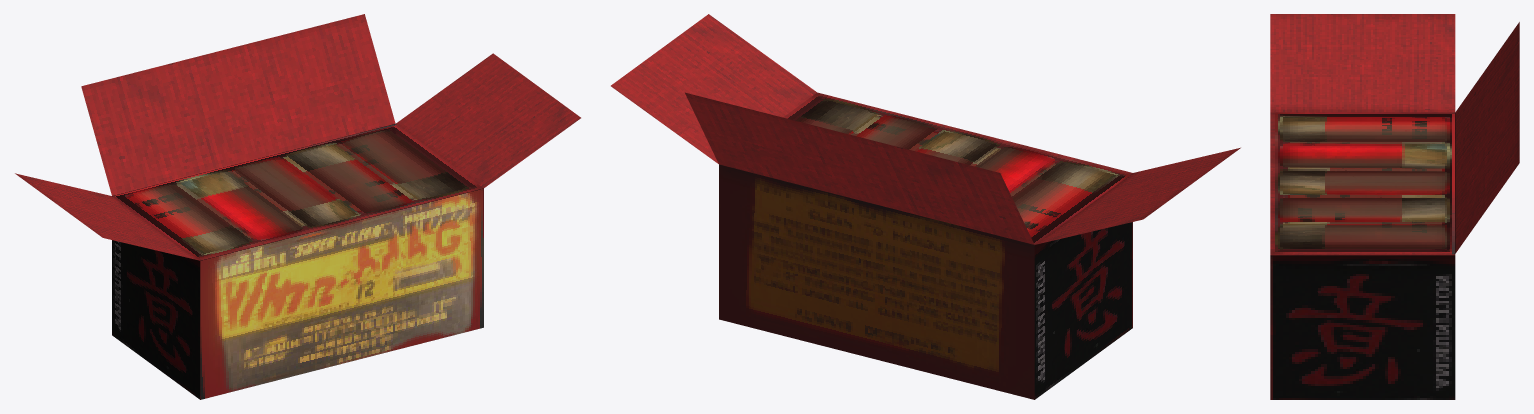
Rendered from shotgun_ammobox.glb.
The picture shows the model from 3 angles, left to right: view 1: azimuth 30°, elevation 25°; view 2: azimuth 150°, elevation 25°; view 3: azimuth 270°, elevation 25°; orthographic projection. The views are drawn at different scales.
Parts seen in each view (by area): view 1: Cube; view 2: Cube; view 3: Cube.
Boxes of the visible parts, <box> form: Cube: <box>15,14,580,399</box>; Cube: <box>611,14,1240,399</box>; Cube: <box>1270,14,1519,399</box>.
Bounding box in the file's own units: 3.28 × 1.5 × 1.41.
1 material, 1 textured.
